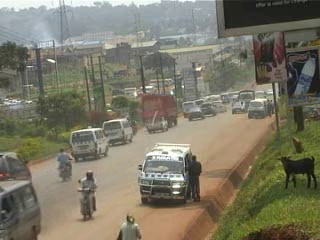Car: (0, 148, 35, 187), (186, 104, 206, 122), (230, 100, 249, 117), (200, 101, 216, 117), (214, 99, 226, 114)
Motorcycle: (76, 176, 97, 220), (55, 158, 76, 182)
